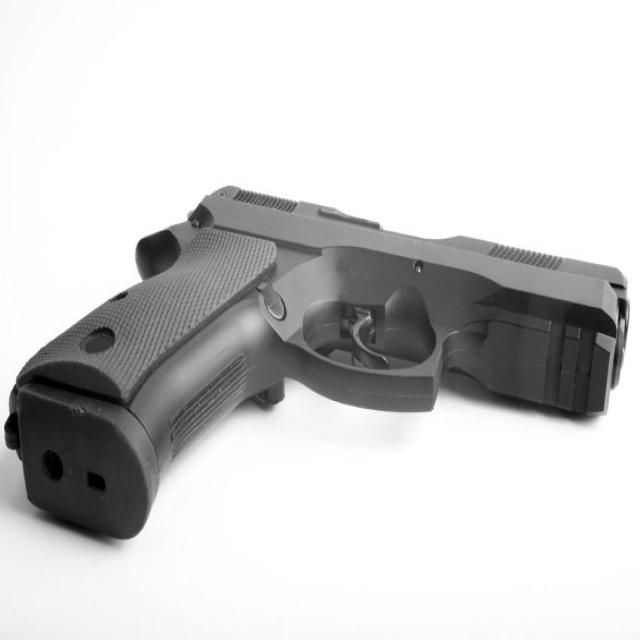gun: (4, 186, 632, 544)
